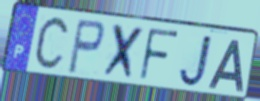A: (206, 38, 245, 95)
C: (31, 14, 71, 74)
F: (138, 26, 181, 85)
J: (177, 33, 215, 89)
P: (65, 17, 106, 77)
X: (100, 22, 146, 84)
